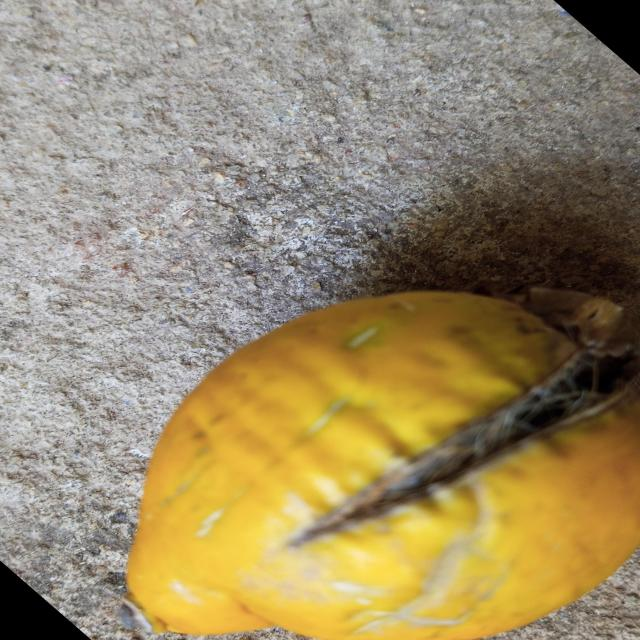damaged: (123, 287, 640, 640)
